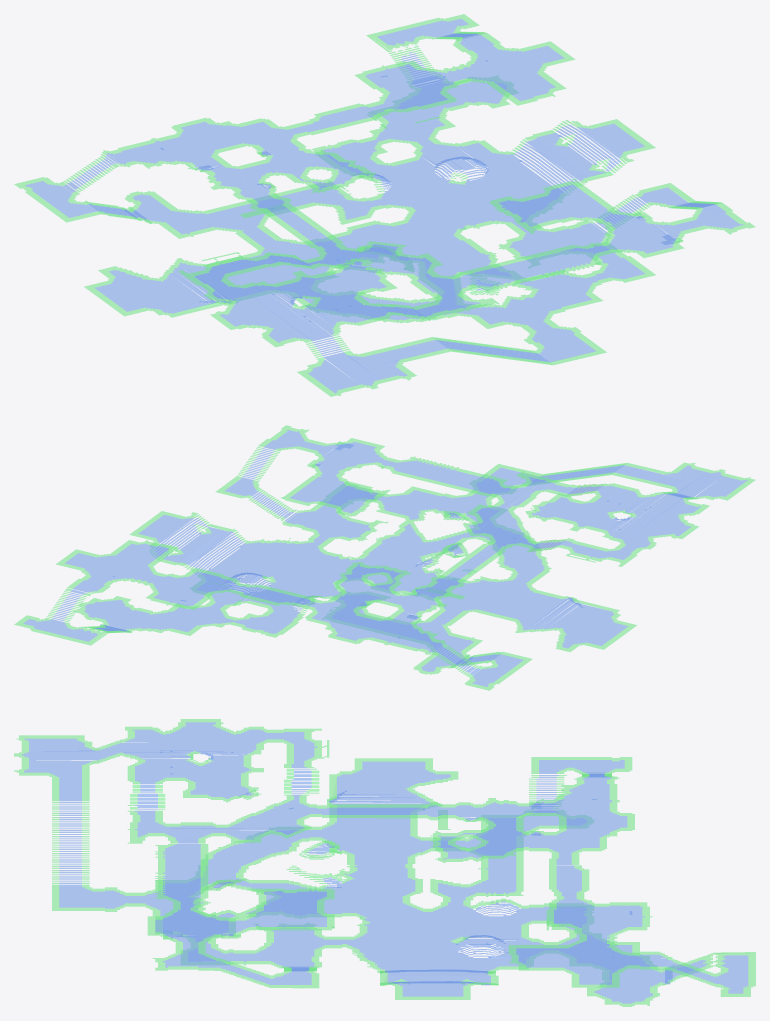
File: bot_nav.glb
3 views of the same model, one above another, from view 1: azimuth 30°, elevation 25°; view 2: azimuth 150°, elevation 25°; view 3: azimuth 270°, elevation 25° (orthographic). The views are drawn at different scales.
Parts seen in each view (by area): view 1: bot_nav_vehicle, bot_nav_robot; view 2: bot_nav_vehicle, bot_nav_robot; view 3: bot_nav_vehicle, bot_nav_robot.
Part boxes in pixels (x1=…): bot_nav_vehicle: x1=25, y1=19, x2=743, y2=393; bot_nav_robot: x1=14, y1=14, x2=755, y2=396; bot_nav_vehicle: x1=23, y1=430, x2=747, y2=686; bot_nav_robot: x1=14, y1=425, x2=755, y2=690; bot_nav_vehicle: x1=22, y1=722, x2=748, y2=1003; bot_nav_robot: x1=14, y1=719, x2=755, y2=1006.
Size of the model in its own units: 248 by 21.78 by 294.
